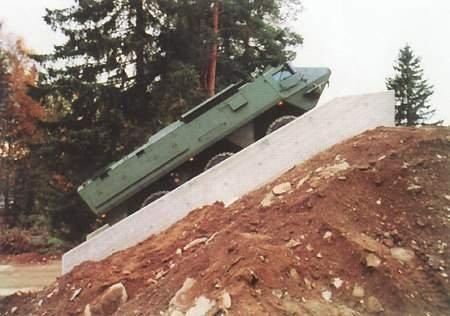MIL_IFV: (76, 59, 334, 229)
